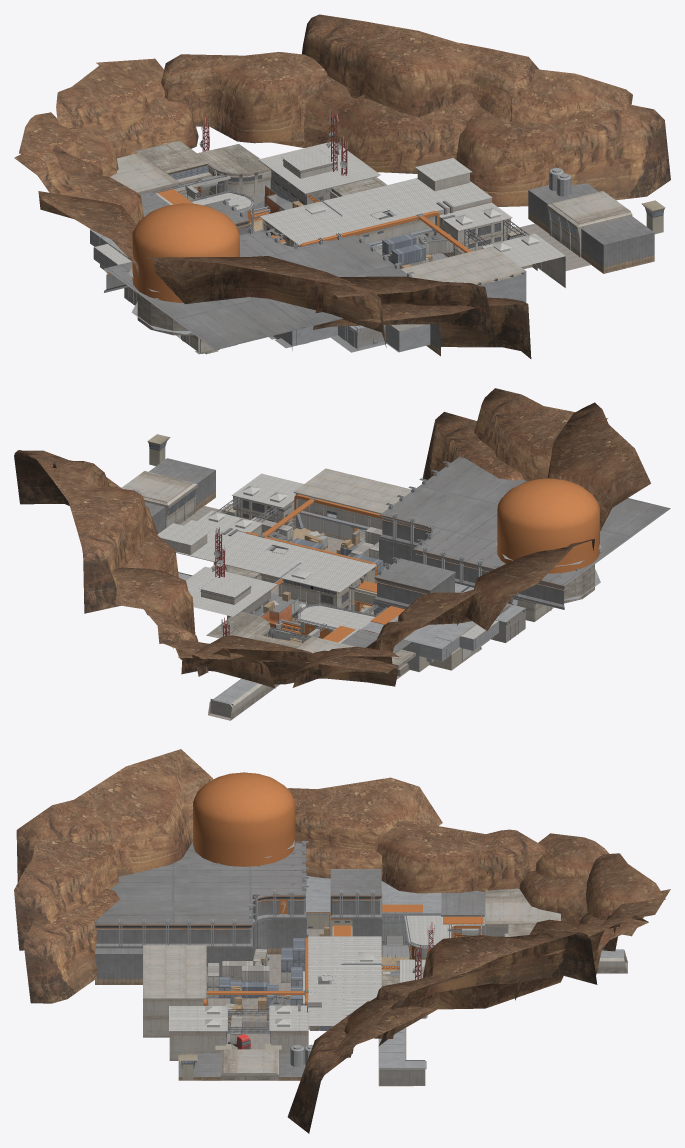
File: zona7.glb
3 renders of one model, top to bottom at view 1: azimuth 30°, elevation 25°; view 2: azimuth 150°, elevation 25°; view 3: azimuth 270°, elevation 25°, orthographic. The views are drawn at different scales.
Visible parts, largest first — view 1: Zone9_model; view 2: Zone9_model; view 3: Zone9_model, decals.
Boxes of the visible parts, x1,y1,x2,y2 form: Zone9_model: (14,14,670,358); Zone9_model: (14,388,670,720); Zone9_model: (14,749,670,1133); decals: (147,900,417,1030).
Bounding box in the file's own units: 748 × 163 × 758.
Materials: 14 (14 with a texture image).
